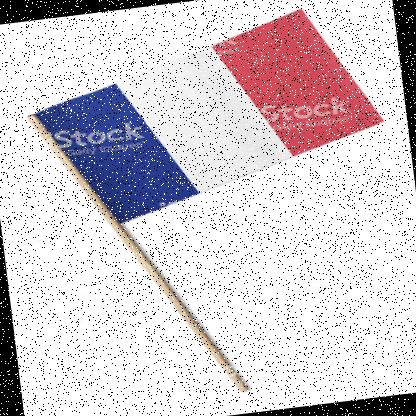fr: (27, 6, 398, 233)
